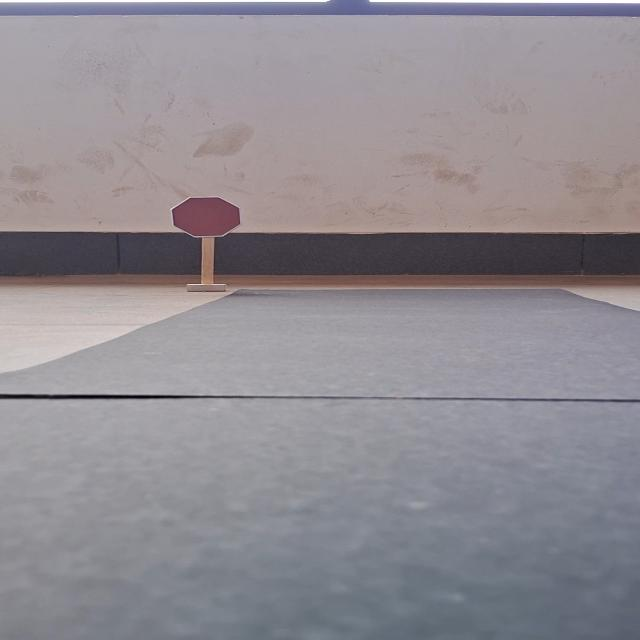Stop: (170, 196, 243, 238)
